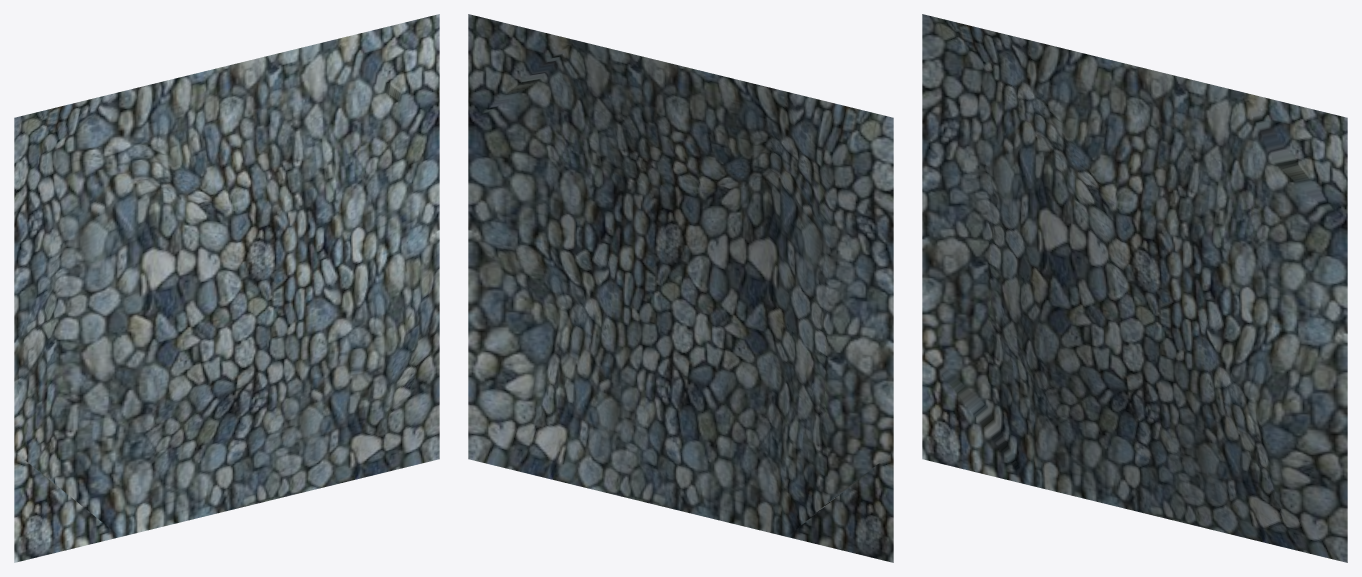
The model's file is ground_steep_3.obj.
3 views of the same model, side by side, from view 1: azimuth 30°, elevation 25°; view 2: azimuth 150°, elevation 25°; view 3: azimuth 330°, elevation 25° (orthographic).
Size of the model in its own units: 2 by 2 by 0.2533.
